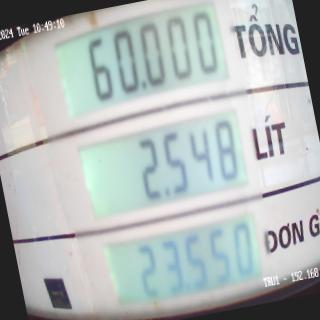screen: (40, 0, 276, 320)
